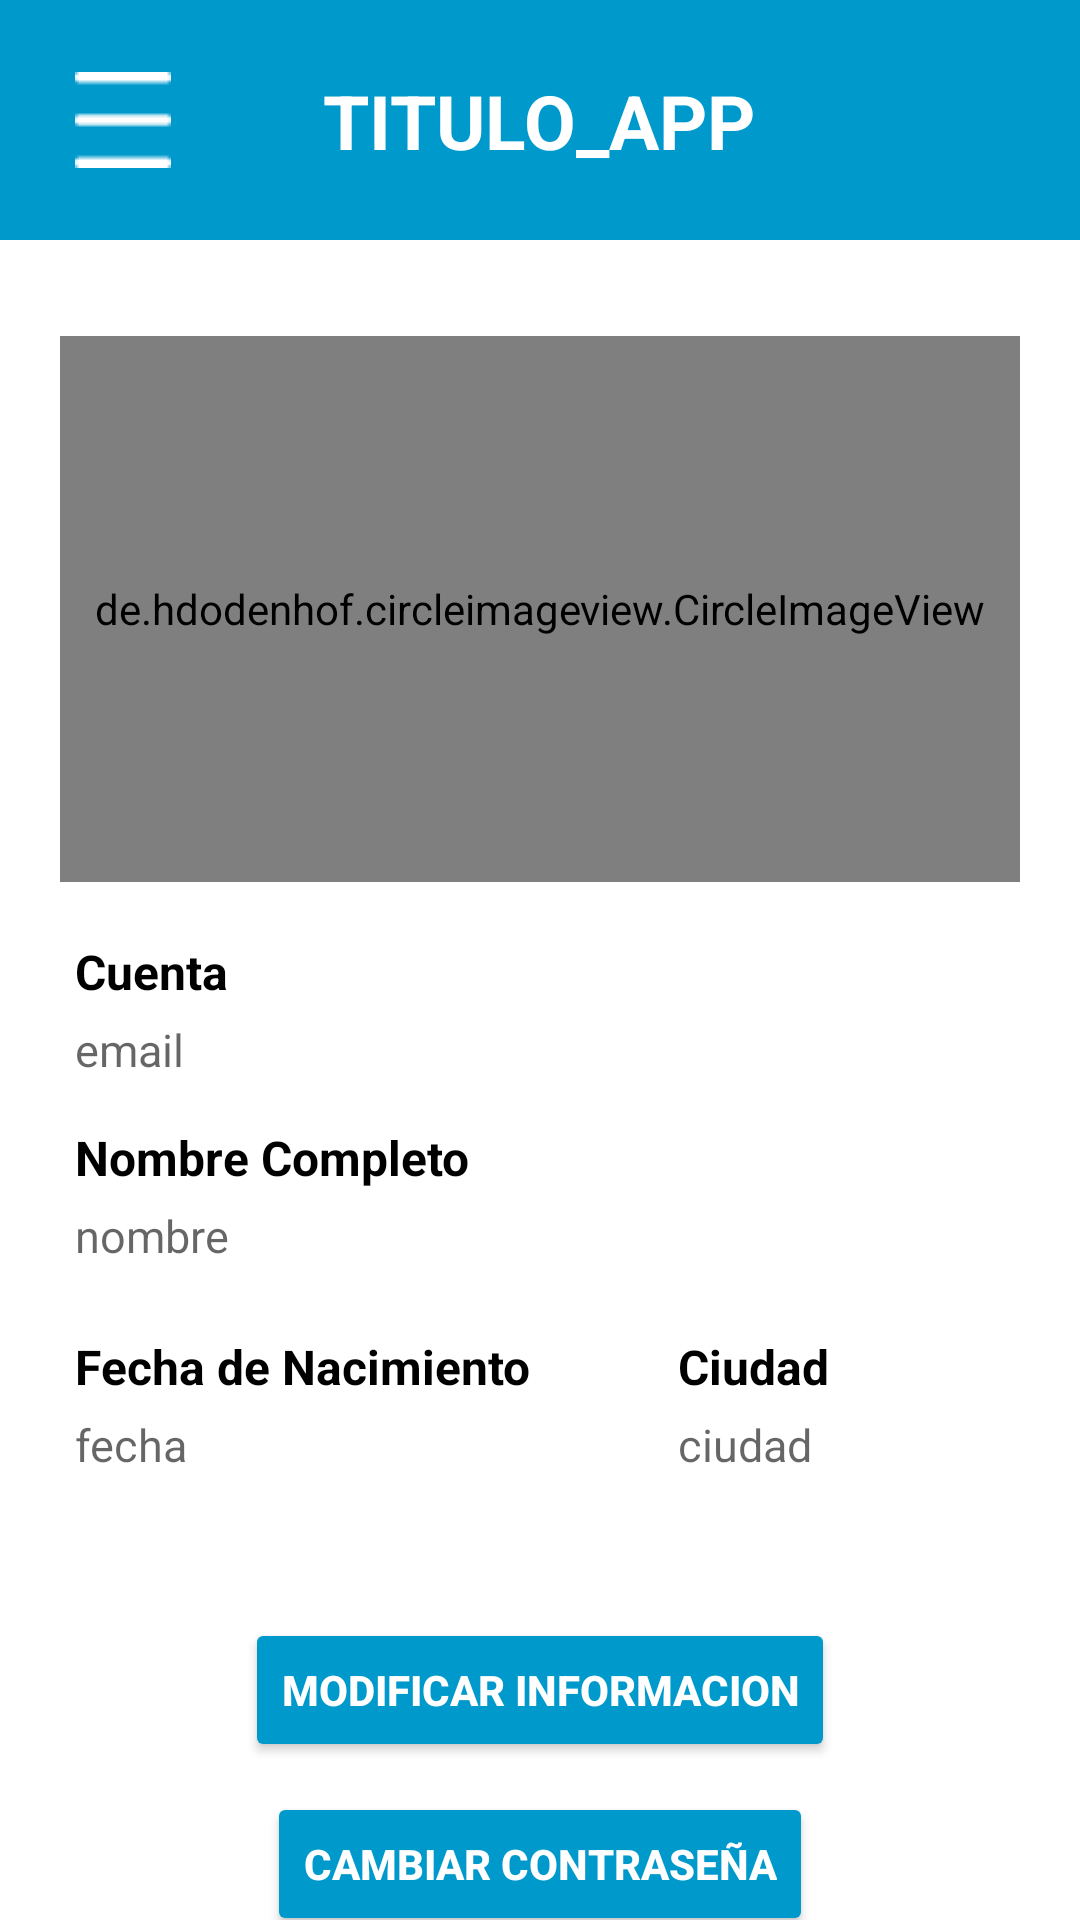

Where icons sit on this 1080 × 1920 app screen, as (x1, y1, x2, y2):
menubuger: (75, 72, 171, 168)
